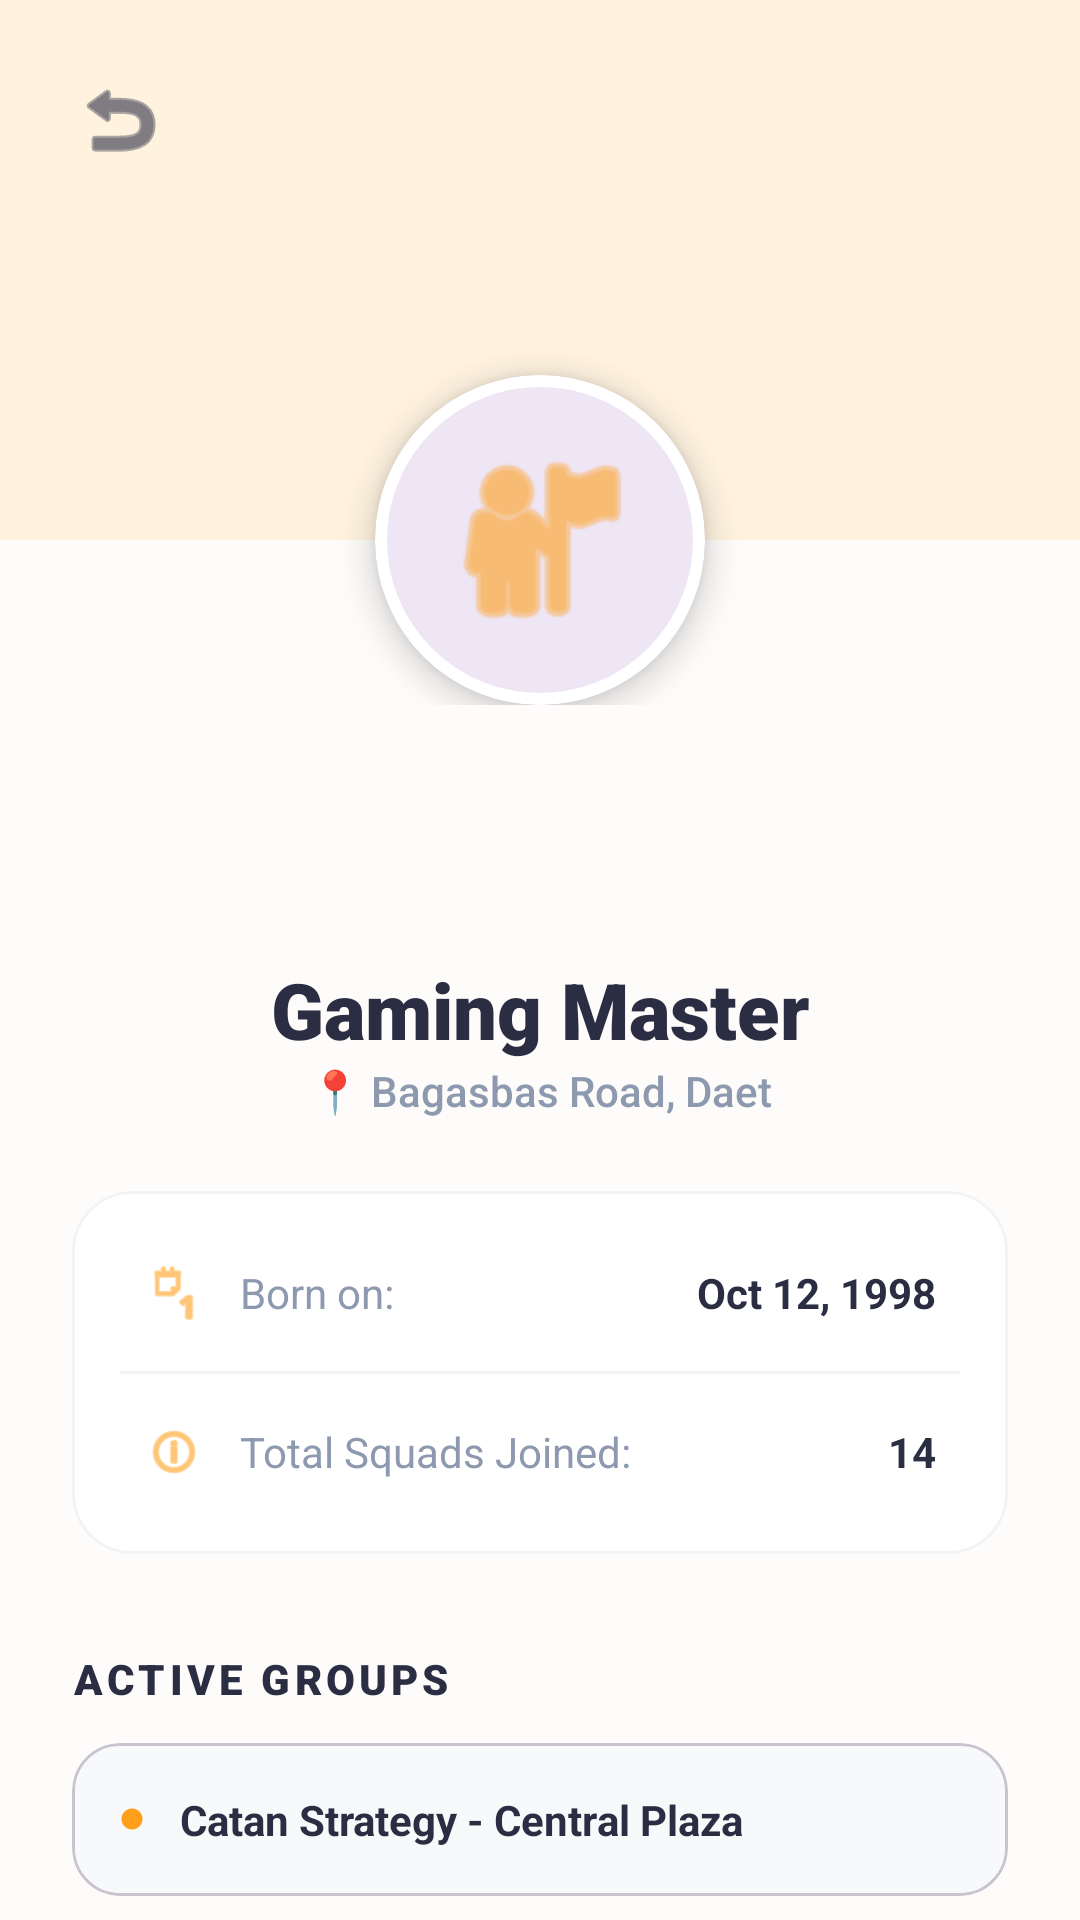

Screen size 1080w x 1920h. Icon name, then its center in pixels as (x=x, y=y):
day: (x=173, y=1293)
info details: (x=174, y=1452)
revert: (x=121, y=120)
